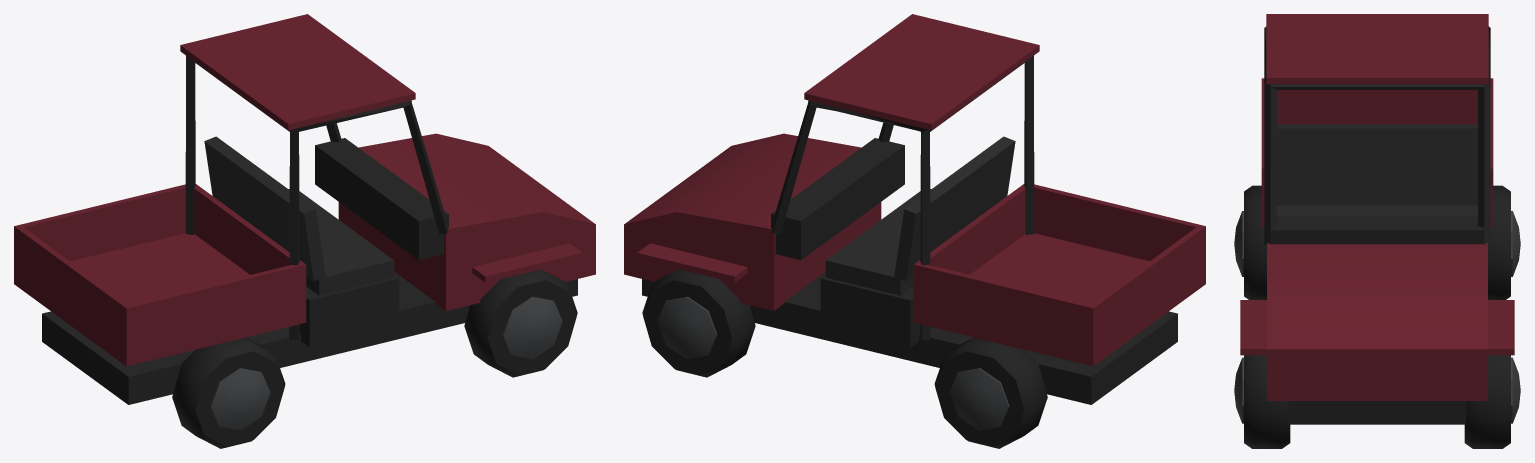
The model's file is SM_Prop_farm_buggy_1_LOD1.glb.
The picture shows the model from 3 angles, left to right: view 1: azimuth 30°, elevation 25°; view 2: azimuth 150°, elevation 25°; view 3: azimuth 270°, elevation 25°; orthographic projection. The views are drawn at different scales.
Parts seen in each view (by area): view 1: SM_Prop_farm_buggy_1_LOD1; view 2: SM_Prop_farm_buggy_1_LOD1; view 3: SM_Prop_farm_buggy_1_LOD1.
Boxes of the visible parts, x1=… form: SM_Prop_farm_buggy_1_LOD1: x1=14, y1=14, x2=595, y2=448; SM_Prop_farm_buggy_1_LOD1: x1=624, y1=14, x2=1205, y2=448; SM_Prop_farm_buggy_1_LOD1: x1=1234, y1=14, x2=1520, y2=448.
Bounding box in the file's own units: 3.15 × 1.92 × 1.61.
